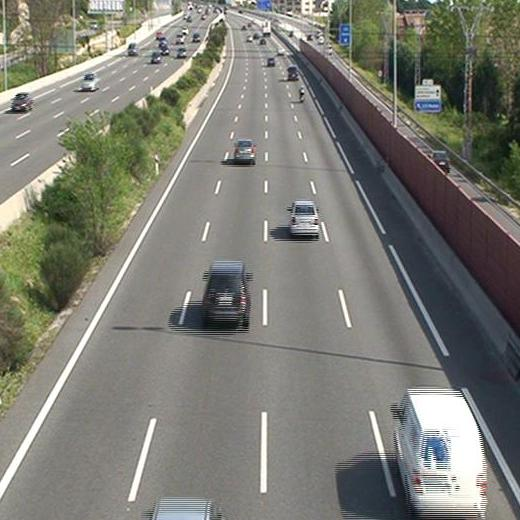car: (201, 262, 255, 327), (289, 200, 323, 236), (234, 139, 257, 162), (288, 64, 299, 79), (265, 55, 276, 66)
motorcycle: (297, 83, 306, 103)
van: (393, 387, 489, 520)
